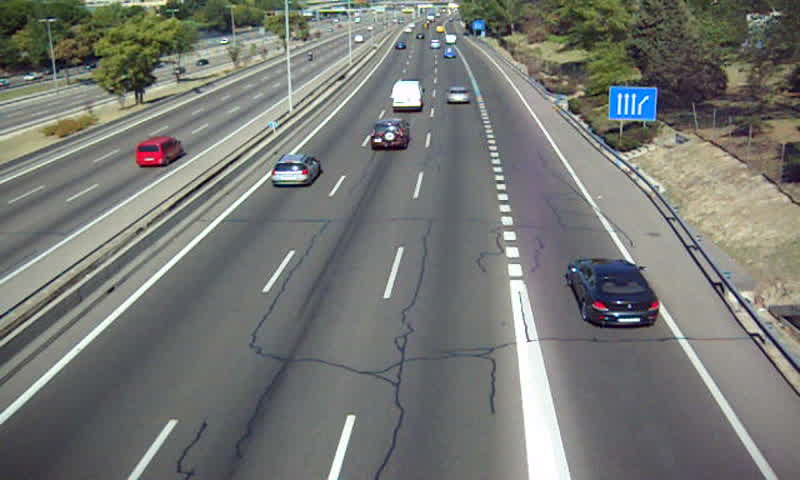car: (567, 259, 661, 328), (271, 154, 322, 187), (370, 118, 411, 152), (445, 85, 473, 104)
van: (391, 81, 425, 113)
